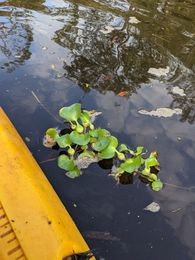water_hyacinth: (36, 96, 169, 188)
